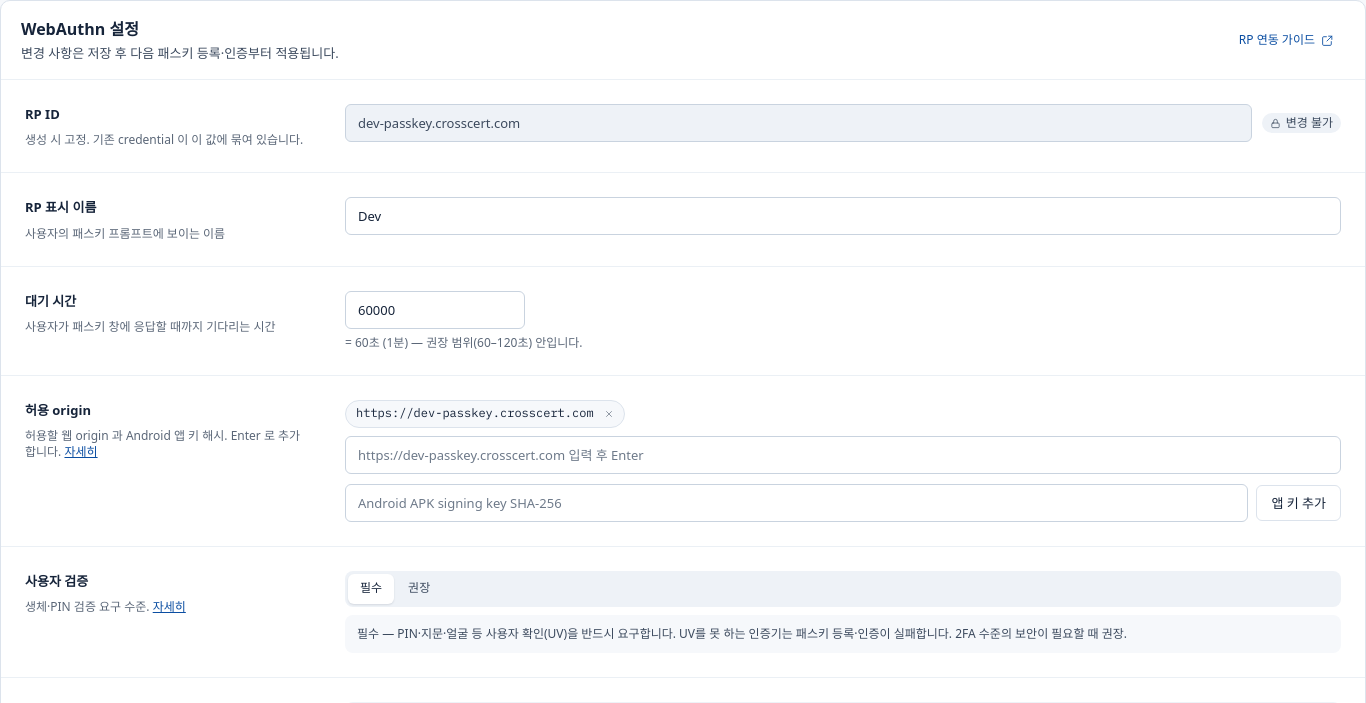
Scenario: WebauthnConfigTab V2 › origin 검증: rpId 범위 밖·중복(정규화 후)은 추가하지 않고 오류 표시
The image size is (1366, 703).
Type "evil.com" into the field named "origin 추가" at (843,455), box 345,436 -> 1341,474
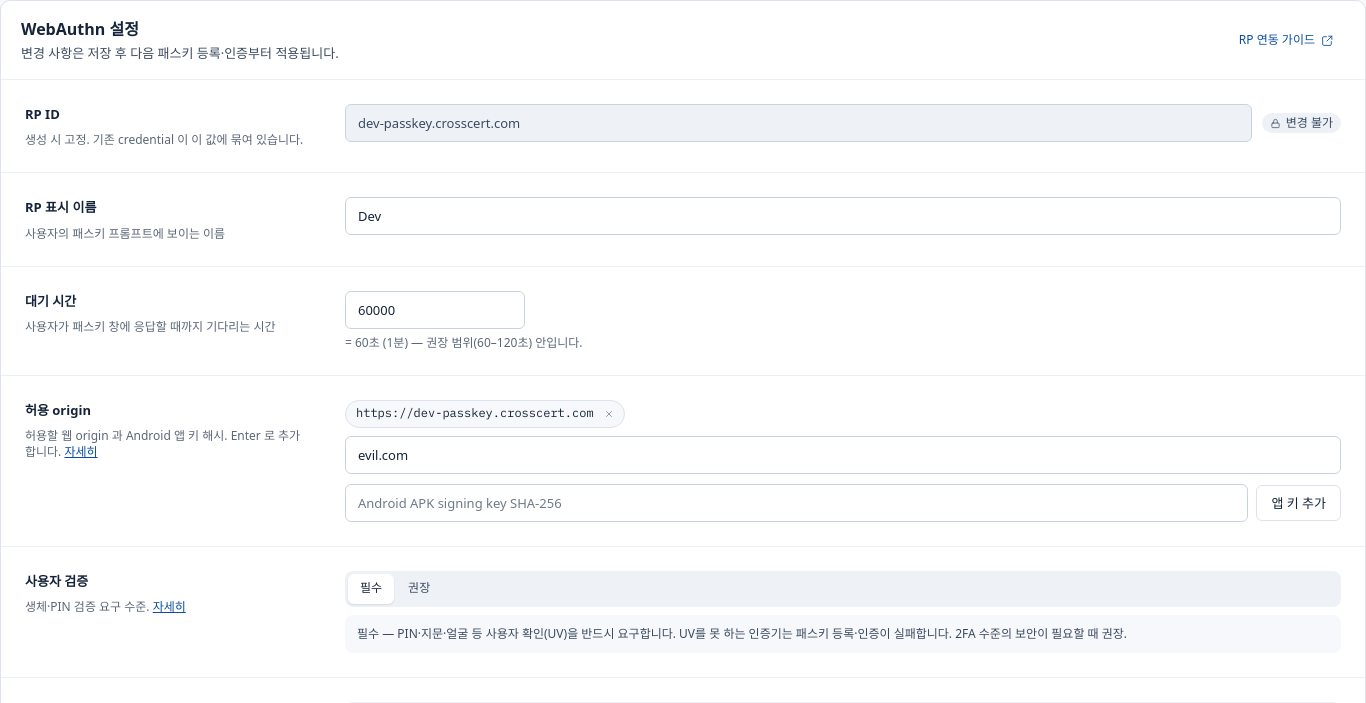
Press Enter in the field named "origin 추가", box 345,436 -> 1341,474
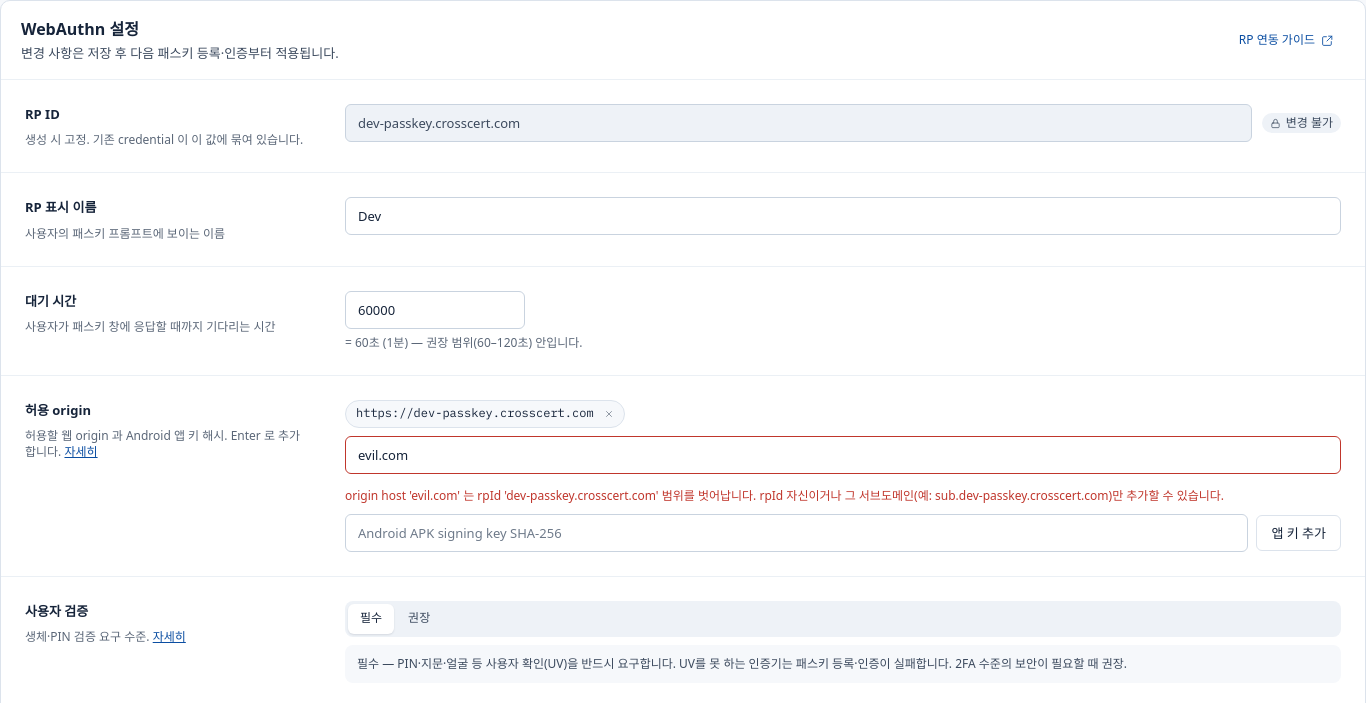
Expected: the text "범위를 벗어납니다" is shown, 345,487 -> 1224,504
Replace the text in the field named "origin 추가" with "dev-passkey.crosscert.com" at (843,455), box 345,436 -> 1341,474
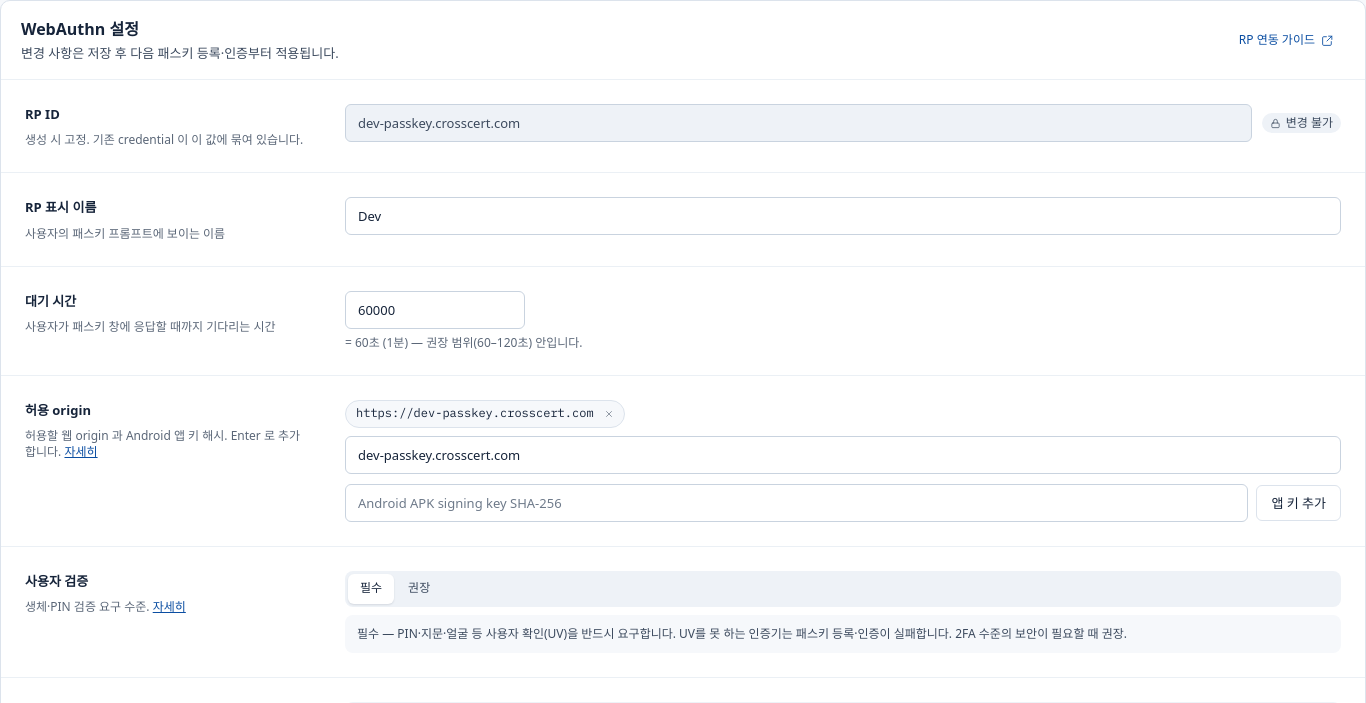
Press Enter in the field named "origin 추가", box 345,436 -> 1341,474
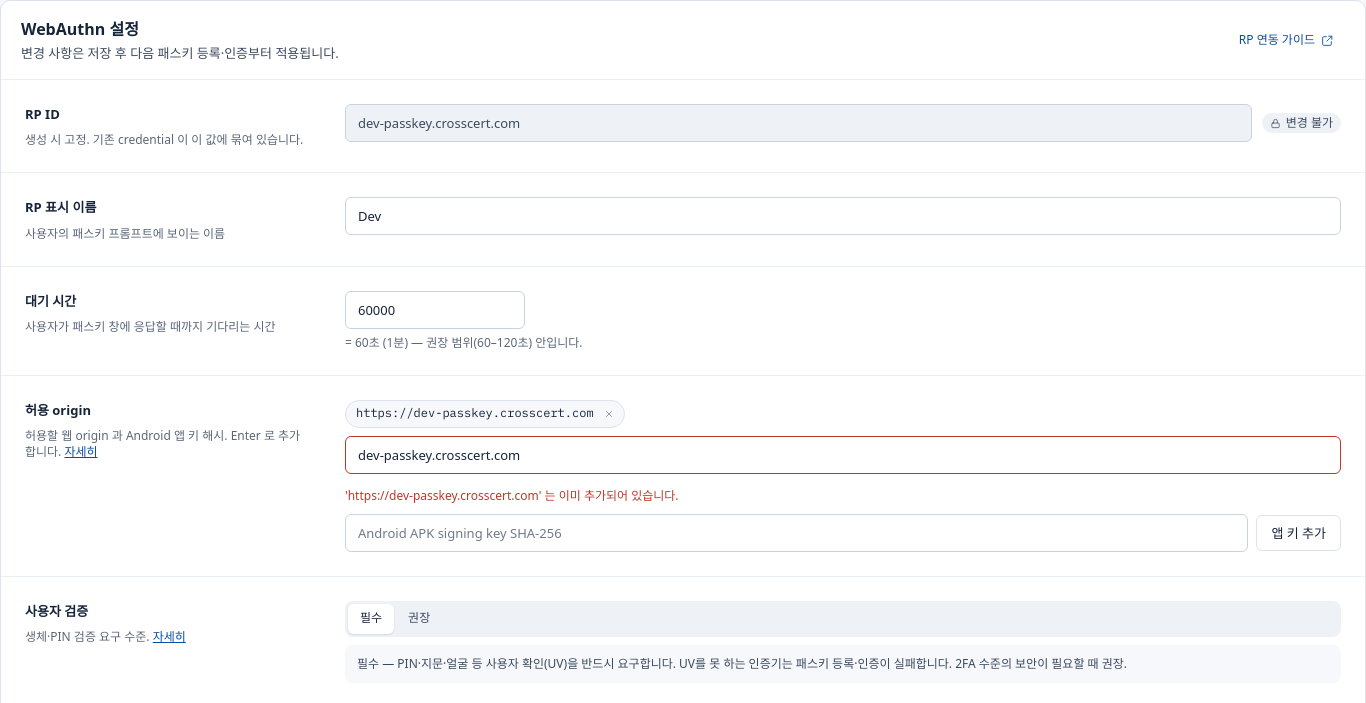
Expected: the text "'https://dev-passkey.crosscert.com' 는 이미 추가되어 있습니다." is shown, 345,487 -> 678,504
